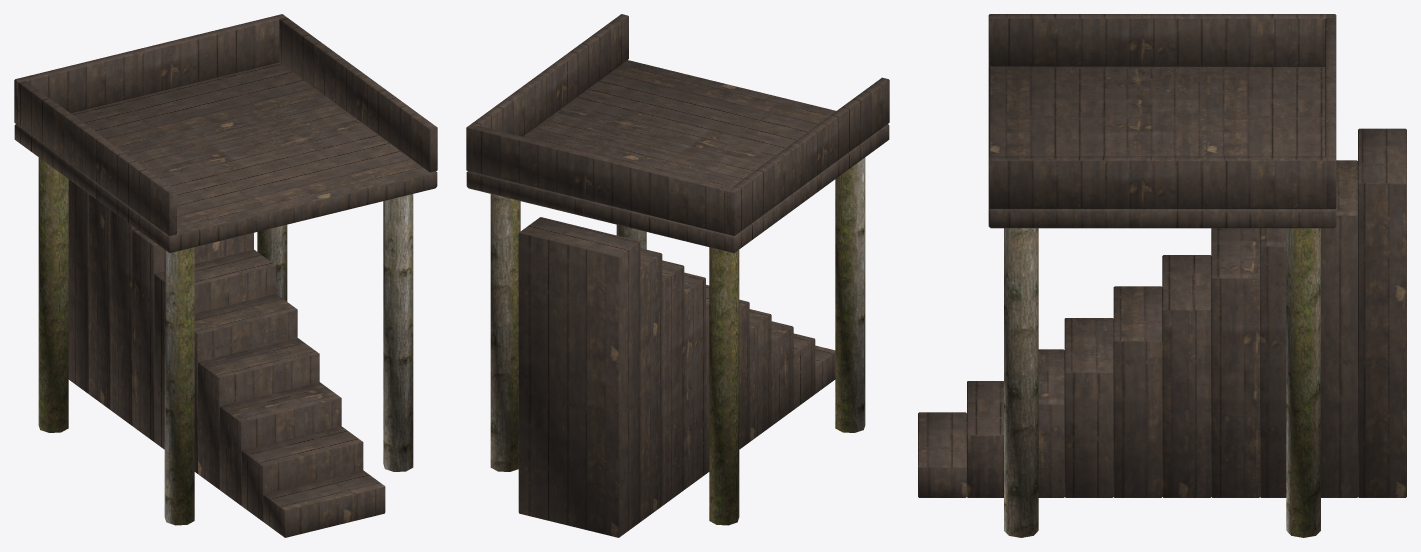
Rendered from WoodlandOutpost.gltf.
The picture shows the model from 3 angles, left to right: view 1: azimuth 30°, elevation 25°; view 2: azimuth 150°, elevation 25°; view 3: azimuth 270°, elevation 25°; orthographic projection. The views are drawn at different scales.
Visible parts, largest first — view 1: watchPlatform, stairs; view 2: watchPlatform, stairs; view 3: watchPlatform, stairs.
Boxes of the visible parts, x1=… form: watchPlatform: x1=14, y1=14, x2=437, y2=525; stairs: x1=68, y1=179, x2=385, y2=537; watchPlatform: x1=466, y1=14, x2=889, y2=525; stairs: x1=518, y1=217, x2=835, y2=537; watchPlatform: x1=988, y1=14, x2=1336, y2=537; stairs: x1=918, y1=128, x2=1406, y2=497.
Bounding box in the file's own units: 3.78 × 4.6 × 5.31.
Materials: 1 (1 with a texture image).
